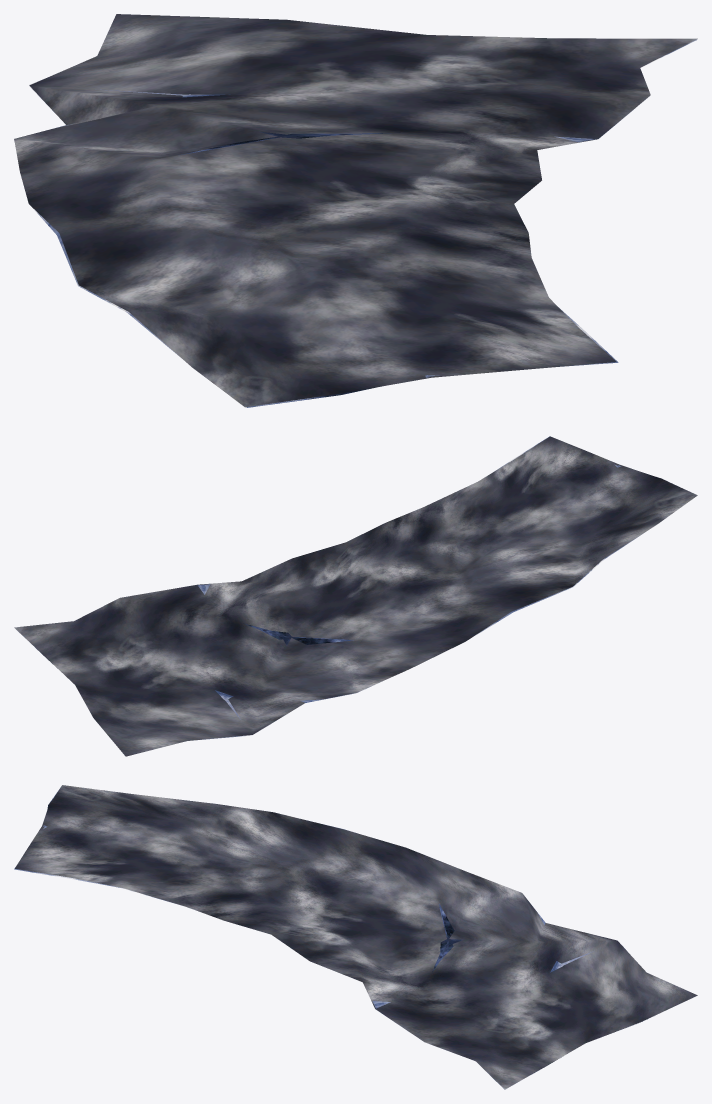
File: HTOWN01_WATER08.fbx
The picture shows the model from 3 angles, top to bottom: view 1: azimuth 30°, elevation 25°; view 2: azimuth 150°, elevation 25°; view 3: azimuth 270°, elevation 25°; orthographic projection. The views are drawn at different scales.
Parts seen in each view (by area): view 1: HTOWN01_WATER08; view 2: HTOWN01_WATER08; view 3: HTOWN01_WATER08.
Boxes of the visible parts, <box> form: HTOWN01_WATER08: <box>14,14,697,407</box>; HTOWN01_WATER08: <box>14,436,697,756</box>; HTOWN01_WATER08: <box>14,785,697,1089</box>.
Size of the model in its own units: 245866 by 46177 by 317873.
2 materials, 2 textured.
